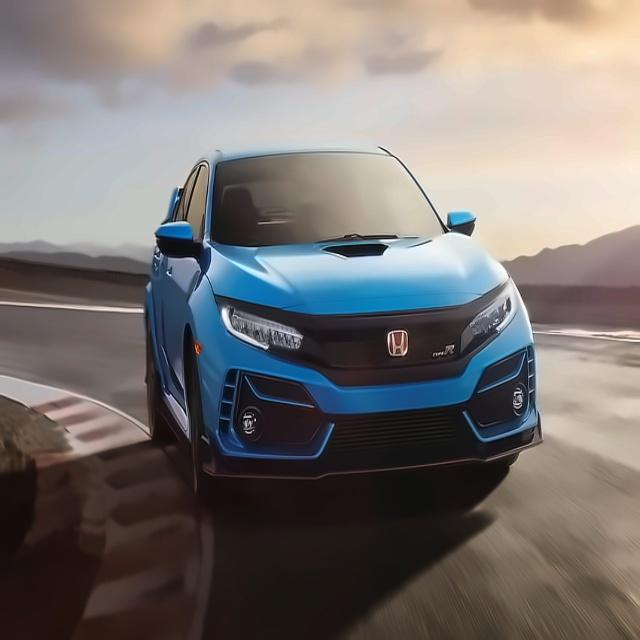Car hood: (203, 229, 515, 319)
Driver-s door - -F-R-: (159, 158, 201, 413)
Fender - -F-R-: (183, 245, 225, 409)
Front bumper: (191, 348, 552, 486)
Headlight - -L-: (456, 278, 520, 357)
Headlight - -R-: (211, 298, 309, 360)
Side bumper - -R-: (150, 380, 195, 453)
Side mirror - -L-: (441, 205, 481, 244)
Side mirror - -R-: (154, 214, 201, 263)
